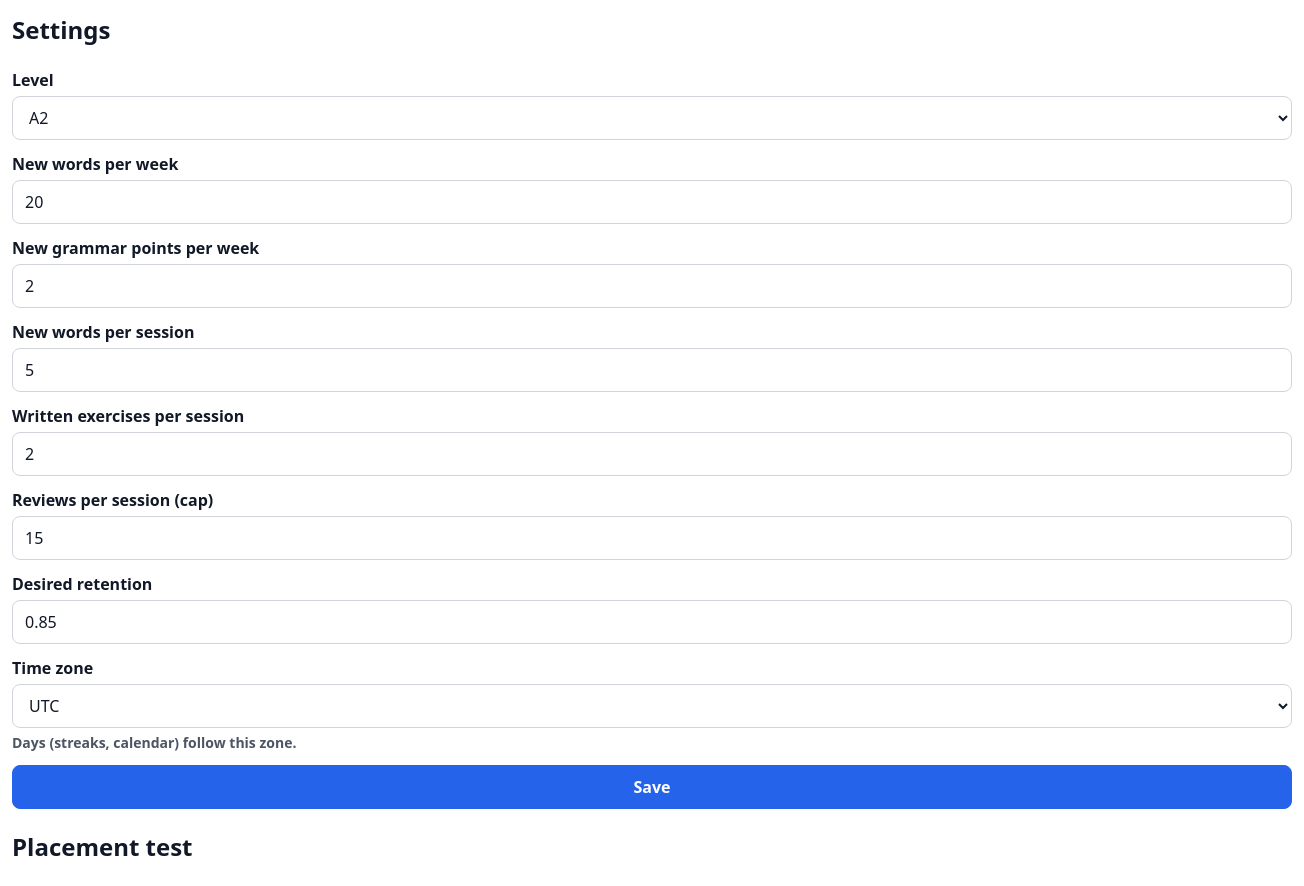
Test: SettingsView › validates bounds before sending anything
Replace the text in the number field labelled "Desired retention" with "0.99" at (652, 622), box [12,600,1292,644]
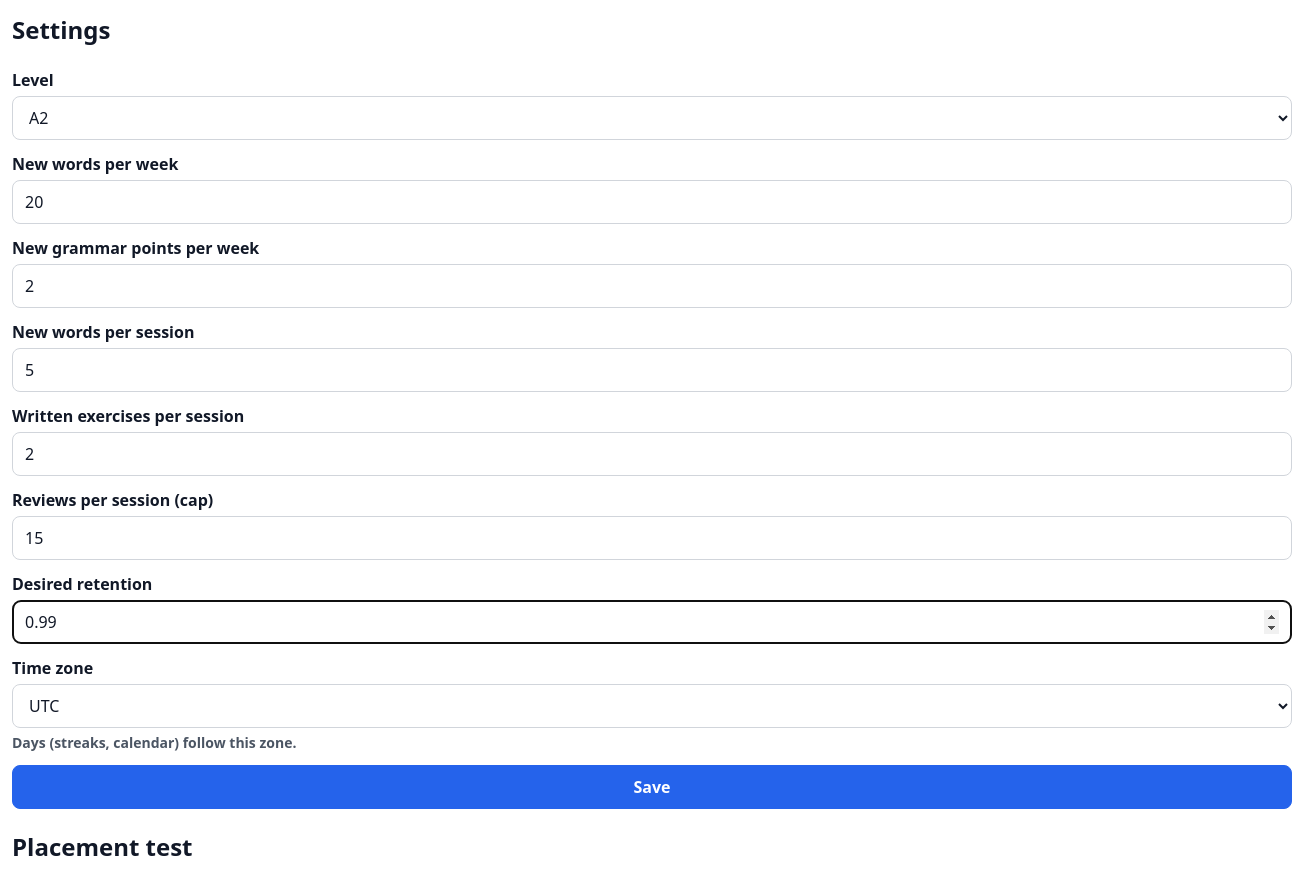
Replace the text in the number field labelled "Reviews per session (cap)" with "0" at (652, 538), box [12,516,1292,560]
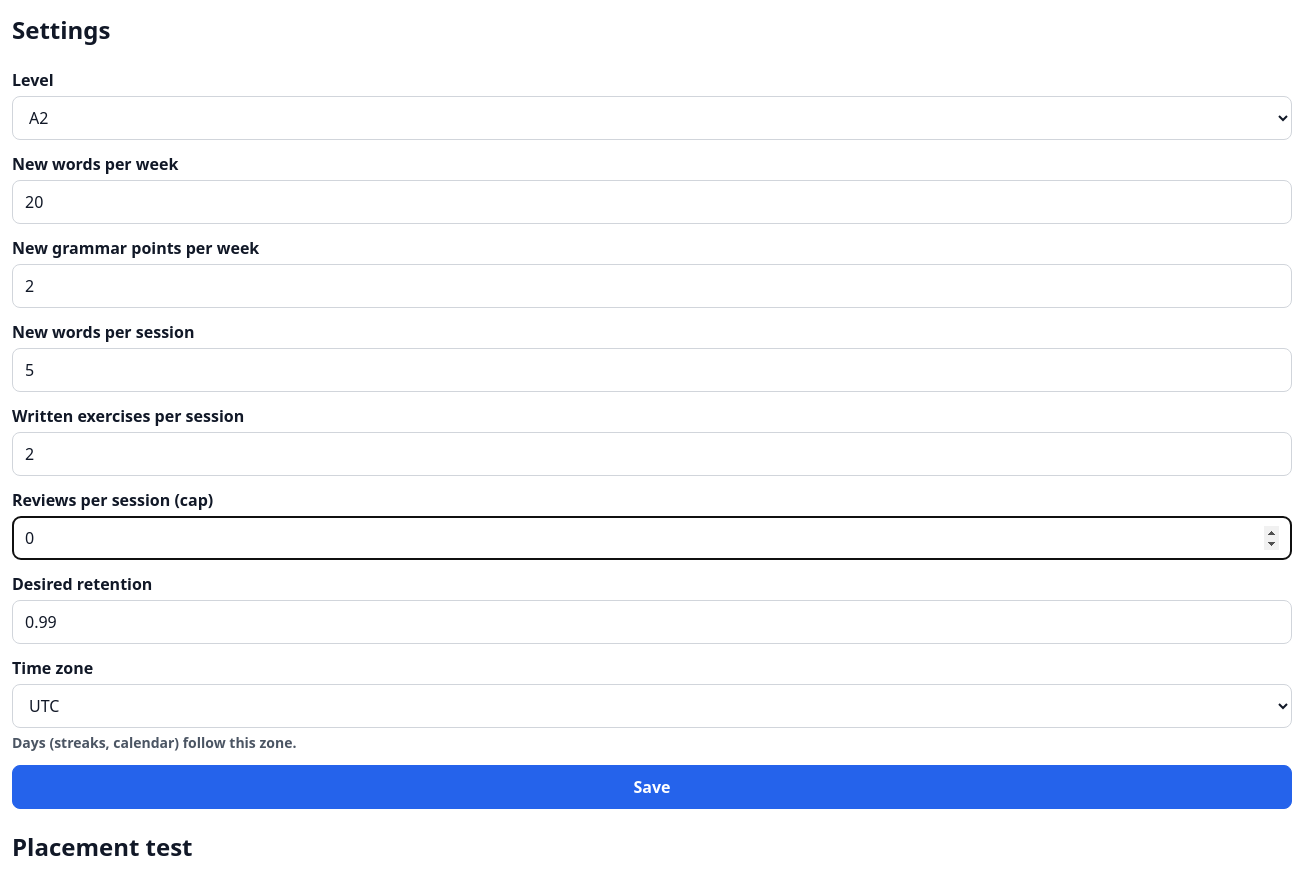
Replace the text in the number field labelled "New words per session" with "2.5" at (652, 370), box [12,348,1292,392]
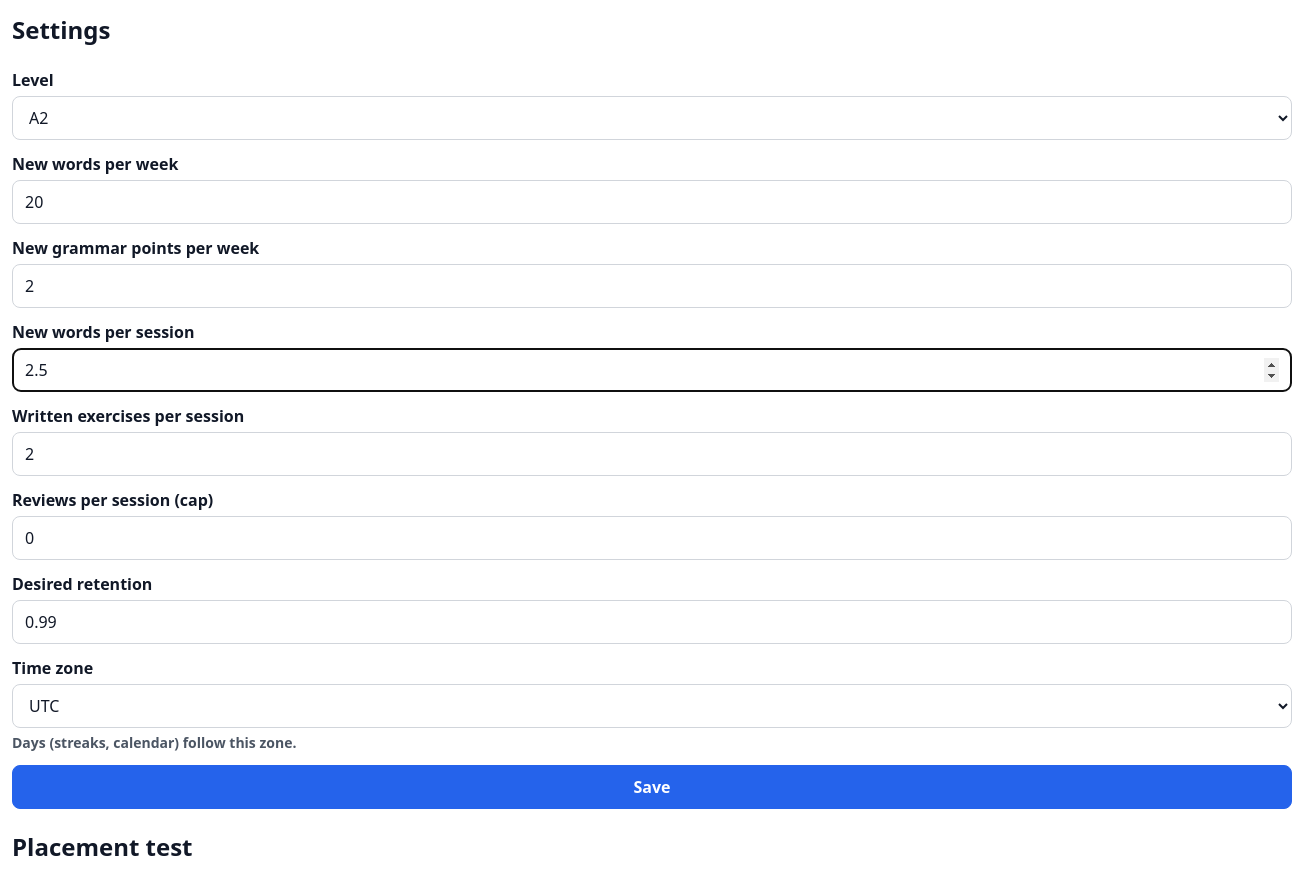
Click the button "Save" at (652, 787), box [12,765,1292,809]
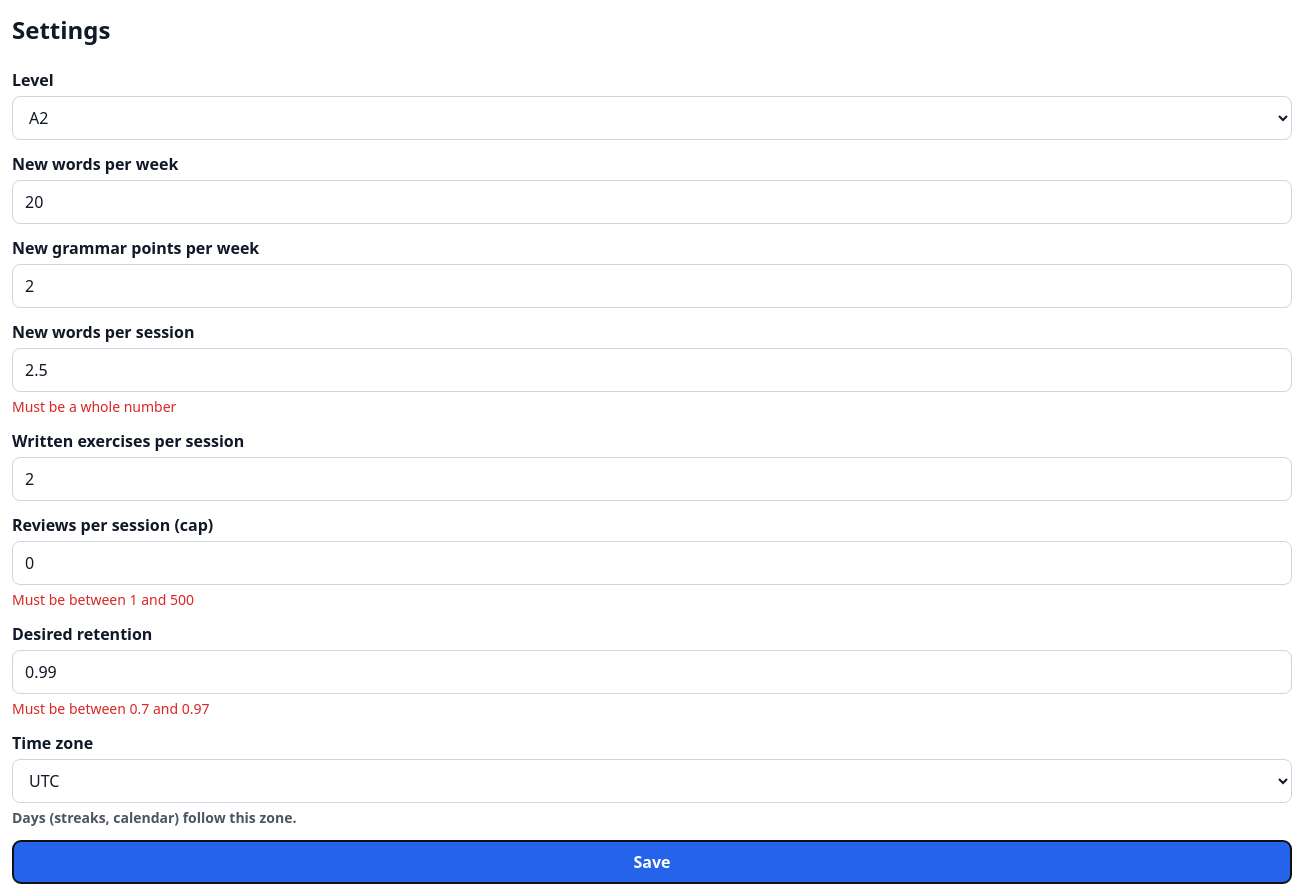
Result: the text "Must be between 0.7 and 0.97" is shown at [12,699,210,718]
Result: the text "Must be between 1 and 500" is shown at [12,590,194,609]
Result: the text "Must be a whole number" is shown at [12,397,176,416]
